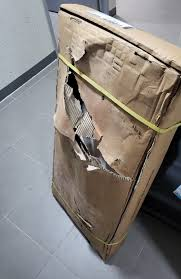damaged package: (55, 30, 142, 189)
